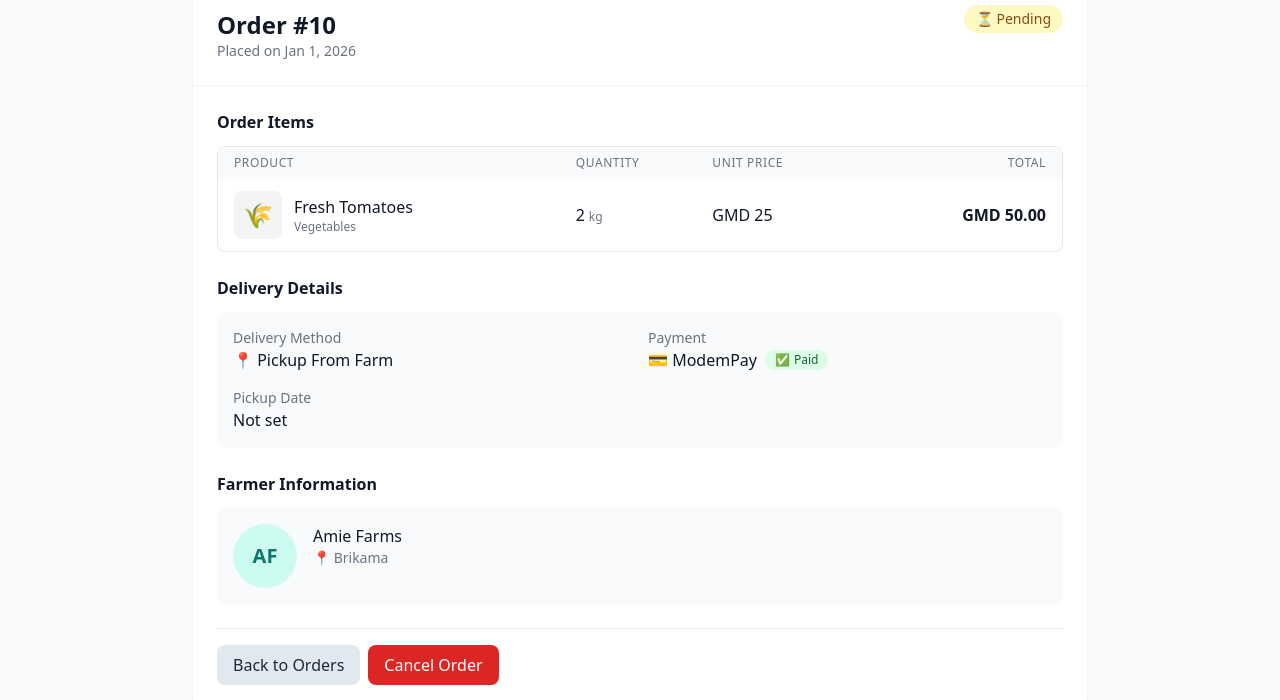
OrderDetailsPage › cancelling an order refetches the order detail query instead of manually re-fetching
(page scrolled)
Expected: the heading "Order #10" is shown, [217, 9, 356, 41]
Click the button "Cancel Order". click: coordinates (433, 665)
box: [368, 645, 498, 685]
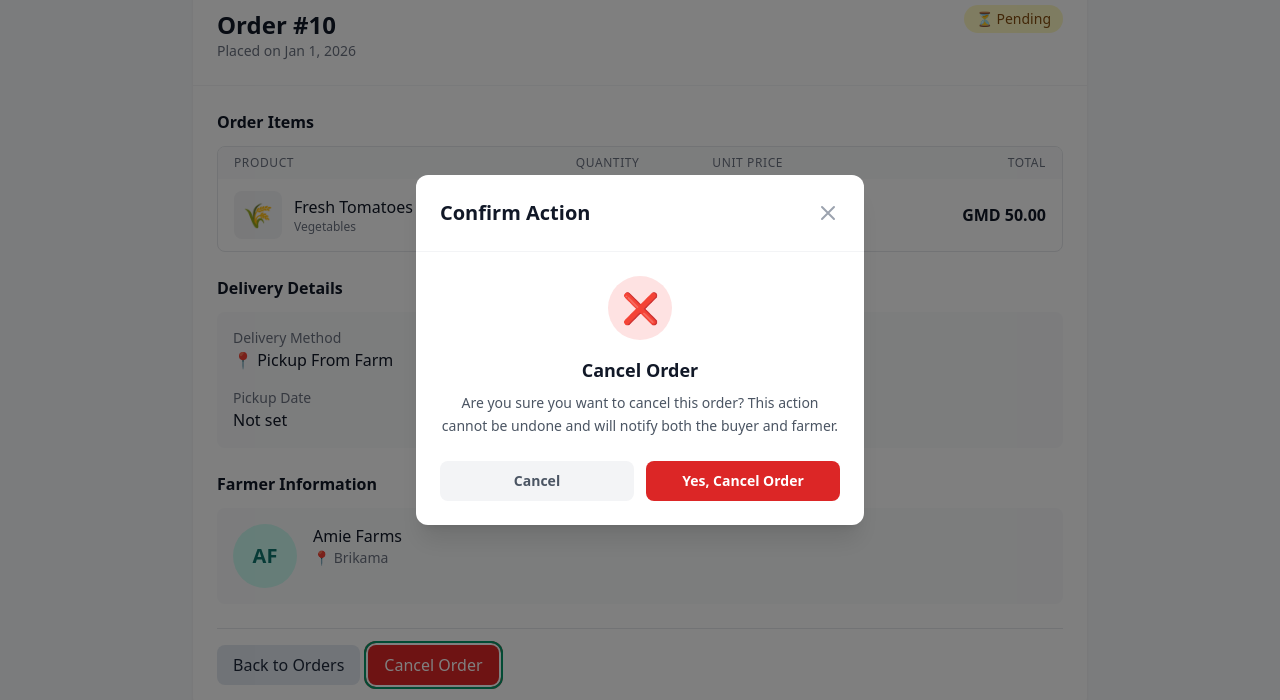
Click the button "Yes, Cancel Order". click: coordinates (743, 481)
box: [646, 461, 840, 501]
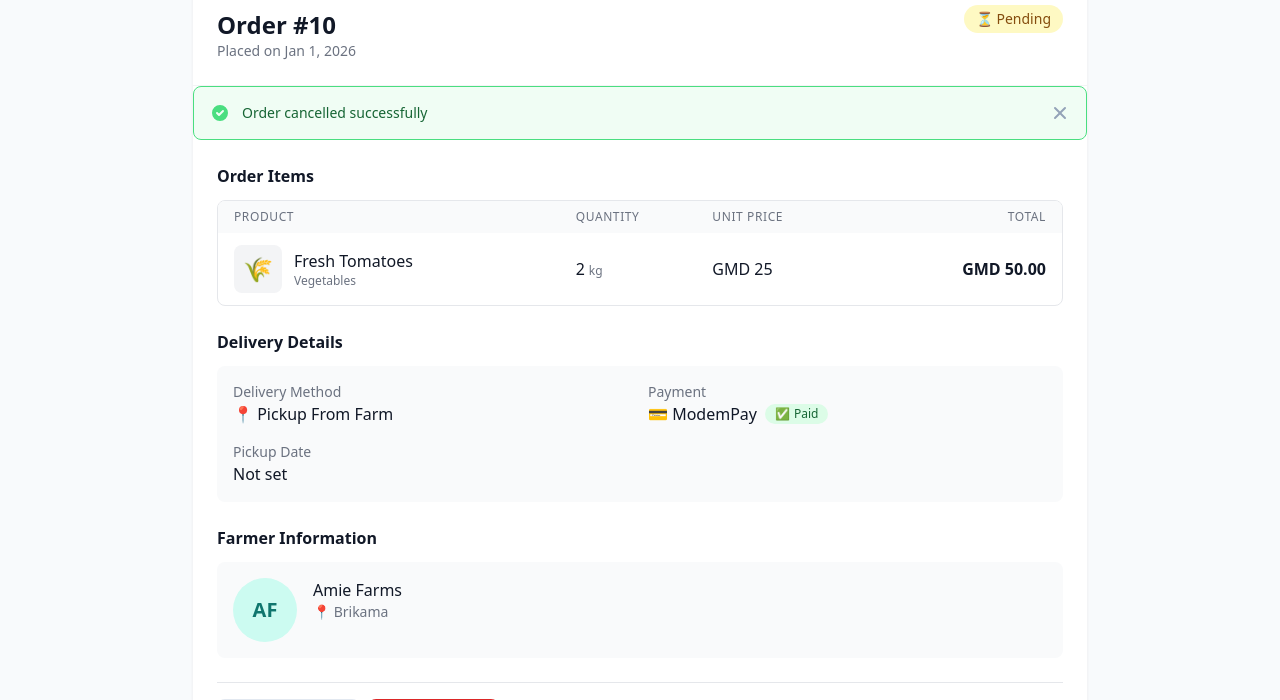
Now the text "Order cancelled successfully" is shown, box [242, 103, 428, 122]
